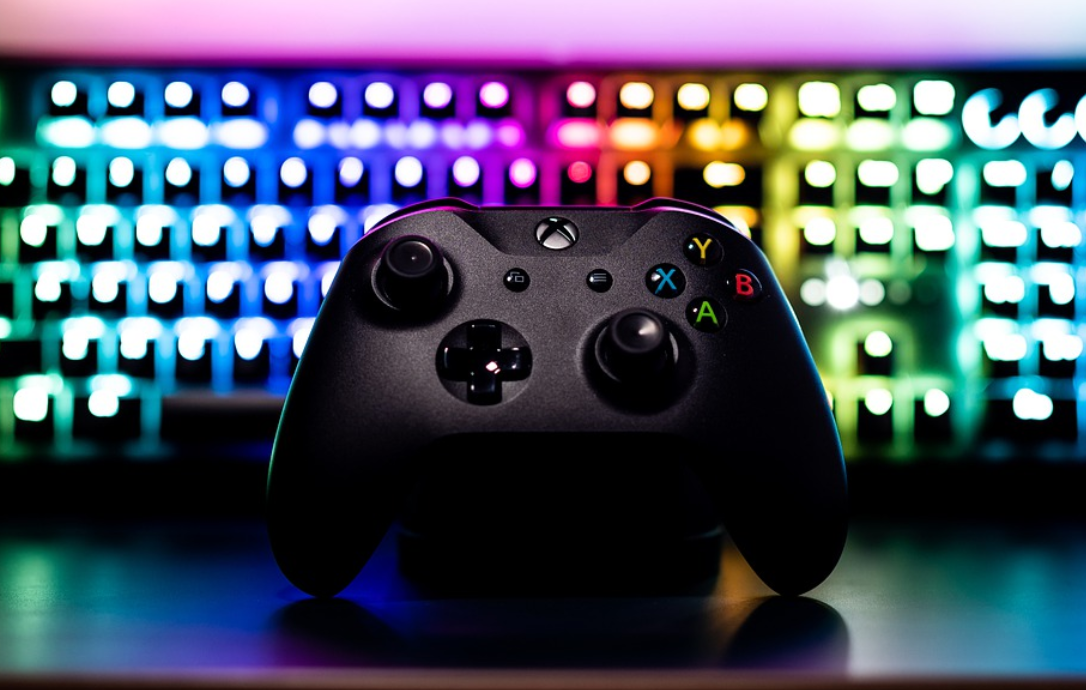gamingconsole: (270, 201, 845, 603)
